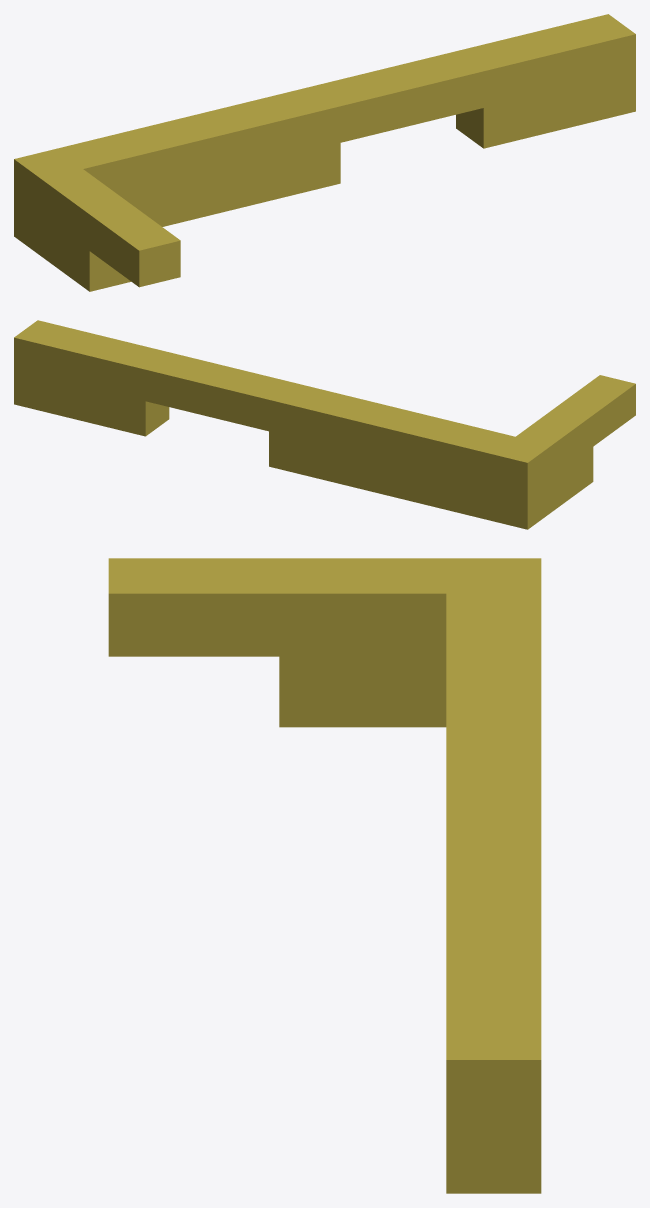
The model's file is UpperCabinet.fbx.
The picture shows the model from 3 angles, top to bottom: view 1: azimuth 30°, elevation 25°; view 2: azimuth 150°, elevation 25°; view 3: azimuth 270°, elevation 25°; orthographic projection. The views are drawn at different scales.
Visible parts, largest first — view 1: Top_Cabinets; view 2: Top_Cabinets; view 3: Top_Cabinets.
Part boxes in pixels (left/top/right/bottom): Top_Cabinets: left=14, top=14, right=635, bottom=291; Top_Cabinets: left=14, top=320, right=635, bottom=529; Top_Cabinets: left=108, top=558, right=541, bottom=1193.
Bounding box in the file's own units: 516 × 64.16 × 188.
